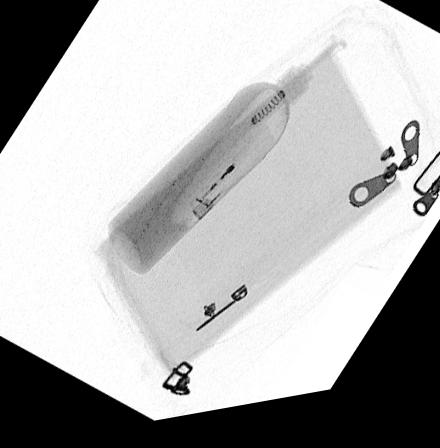Lighter: (186, 144, 263, 229)
